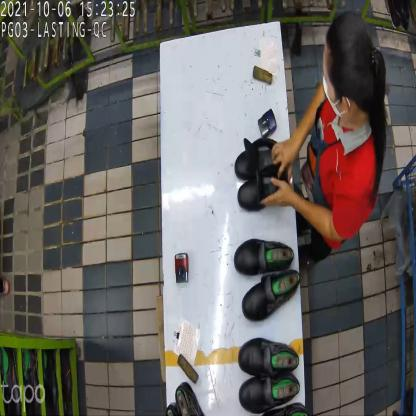shoes: (233, 237, 304, 322), (233, 137, 295, 220), (236, 338, 300, 416)
stamp: (258, 108, 278, 140), (173, 253, 191, 287)
